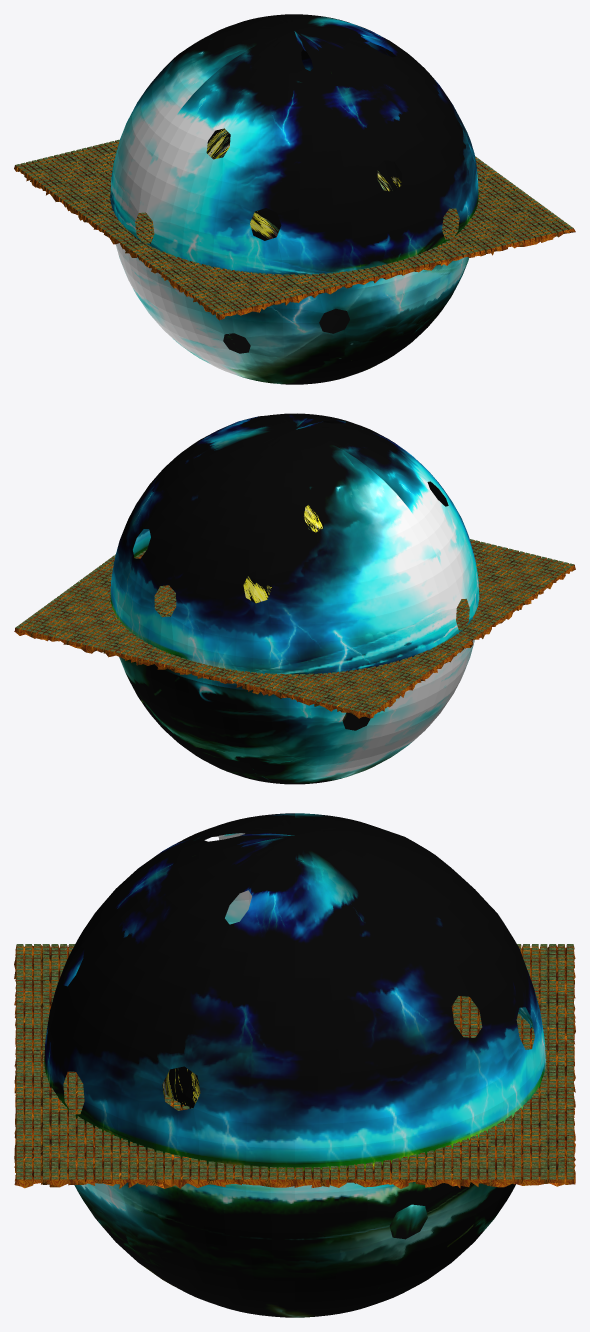
Rendered from WORLD.fbx.
3 views of the same model, one above another, from view 1: azimuth 30°, elevation 25°; view 2: azimuth 150°, elevation 25°; view 3: azimuth 270°, elevation 25° (orthographic). The views are drawn at different scales.
Parts seen in each view (by area): view 1: Sphere, Plane, Sphere.002; view 2: Sphere, Plane, Sphere.002; view 3: Sphere, Plane, Sphere.002.
Part boxes in pixels (x1,y1,x2,y2): Sphere: (110,14,478,384); Plane: (14,139,575,320); Sphere.002: (206,128,401,240); Sphere: (110,413,479,784); Plane: (14,539,575,718); Sphere.002: (243,502,324,603); Sphere: (44,813,545,1317); Plane: (14,944,575,1188); Sphere.002: (162,1066,200,1108).
Bounding box in the file's own units: 85.62 × 77.32 × 85.63.
Materials: 4 (4 with a texture image).
